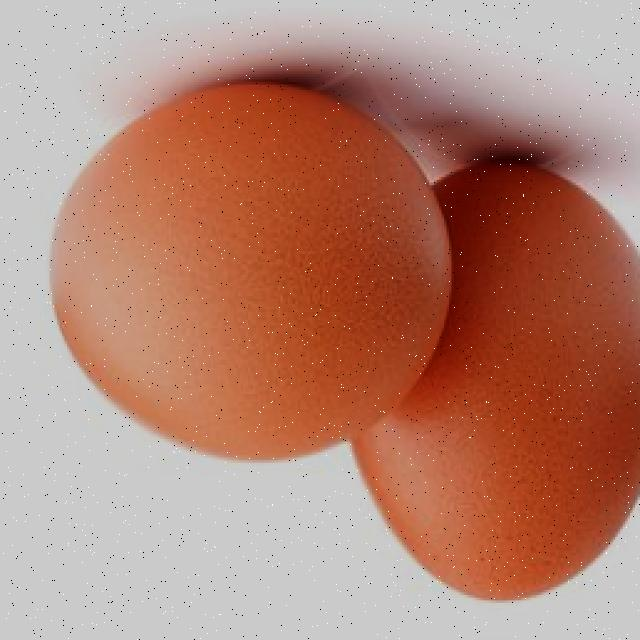Brown Egg: (41, 68, 464, 473), (342, 156, 640, 614)
